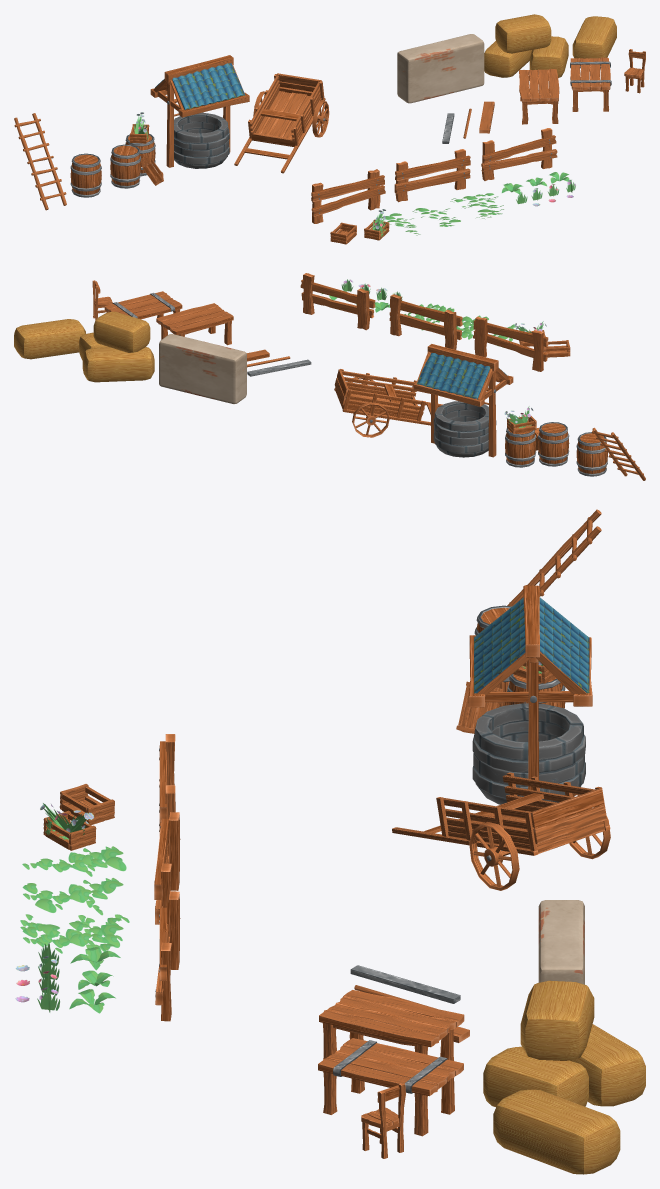
File: prop-medieval.glb
The picture shows the model from 3 angles, top to bottom: view 1: azimuth 30°, elevation 25°; view 2: azimuth 150°, elevation 25°; view 3: azimuth 270°, elevation 25°; orthographic projection. The views are drawn at different scales.
Visible parts, largest first — view 1: MESH_Well, MESH_Wagon, MESH_SturdyWall_01, MESH_HayBaleStack_01, MESH_BarrelAndCrates, MESH_Fence_02, MESH_Fence_01, MESH_Fence_03, MESH_Table_01, MESH_Table_02, MESH_HayBale_01, MESH_Ladder_01 (+6 smaller); view 2: MESH_Well, MESH_SturdyWall_01, MESH_HayBaleStack_01, MESH_Wagon, MESH_BarrelAndCrates, MESH_HayBale_01, MESH_Fence_01, MESH_Fence_02, MESH_Fence_03, MESH_Table_01, MESH_Table_02, MESH_Barrel_03 (+4 smaller); view 3: MESH_Well, MESH_HayBaleStack_01, MESH_Wagon, MESH_HayBale_01, MESH_Table_02, MESH_Table_01, MESH_SturdyWall_01, MESH_ClimbingVine_03, MESH_Fence_03, MESH_Fence_02, MESH_BarrelAndCrates, MESH_Chair (+7 smaller).
Part boxes in pixels (x1=…): MESH_Well: x1=150, y1=55, x2=249, y2=168; MESH_Wagon: x1=234, y1=73, x2=329, y2=173; MESH_SturdyWall_01: x1=397, y1=34, x2=484, y2=103; MESH_HayBaleStack_01: x1=484, y1=14, x2=568, y2=77; MESH_BarrelAndCrates: x1=110, y1=112, x2=163, y2=188; MESH_Fence_02: x1=394, y1=149, x2=470, y2=202; MESH_Fence_01: x1=311, y1=169, x2=385, y2=223; MESH_Fence_03: x1=481, y1=128, x2=557, y2=180; MESH_Table_01: x1=519, y1=68, x2=559, y2=124; MESH_Table_02: x1=570, y1=57, x2=611, y2=111; MESH_HayBale_01: x1=572, y1=16, x2=616, y2=58; MESH_Ladder_01: x1=14, y1=113, x2=66, y2=210; MESH_Well: x1=413, y1=344, x2=513, y2=457; MESH_SturdyWall_01: x1=159, y1=334, x2=246, y2=404; MESH_HayBaleStack_01: x1=79, y1=311, x2=154, y2=382; MESH_Wagon: x1=334, y1=369, x2=442, y2=437; MESH_BarrelAndCrates: x1=504, y1=406, x2=569, y2=467; MESH_HayBale_01: x1=14, y1=319, x2=85, y2=359; MESH_Fence_01: x1=473, y1=316, x2=548, y2=371; MESH_Fence_02: x1=389, y1=294, x2=462, y2=349; MESH_Fence_03: x1=300, y1=273, x2=375, y2=330; MESH_Table_01: x1=156, y1=303, x2=233, y2=345; MESH_Table_02: x1=104, y1=291, x2=182, y2=319; MESH_Barrel_03: x1=576, y1=432, x2=607, y2=476; MESH_Well: x1=468, y1=585, x2=592, y2=804; MESH_HayBaleStack_01: x1=483, y1=980, x2=645, y2=1106; MESH_Wagon: x1=392, y1=772, x2=610, y2=890; MESH_HayBale_01: x1=493, y1=1089, x2=620, y2=1174; MESH_Table_02: x1=318, y1=1038, x2=463, y2=1136; MESH_Table_01: x1=319, y1=990, x2=464, y2=1060; MESH_SturdyWall_01: x1=538, y1=900, x2=584, y2=984; MESH_ClimbingVine_03: x1=20, y1=914, x2=129, y2=955; MESH_Fence_03: x1=155, y1=891, x2=180, y2=1021; MESH_Fence_02: x1=154, y1=812, x2=180, y2=924; MESH_BarrelAndCrates: x1=456, y1=661, x2=565, y2=733; MESH_Chair: x1=361, y1=1083, x2=405, y2=1158.
Size of the model in its own units: 10.37 by 1.58 by 5.04.
5 materials, 5 textured.
